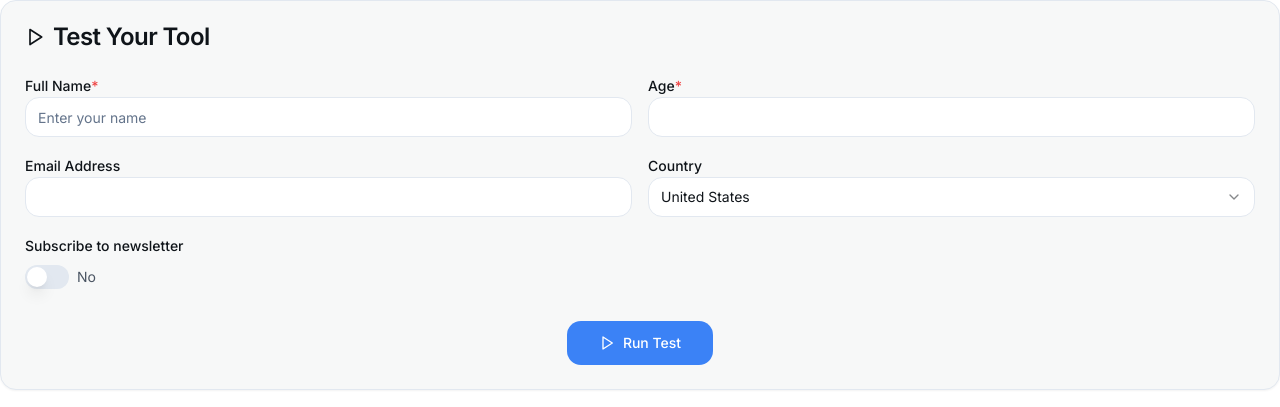
Test case: ToolTestRunner › Form Interaction › should handle select input changes
Find the select trigger button (it's the next element after the label)
What coordinates should you click on to do the following:
click the dropdown
I would click on:
 (705, 196)
Its box is x1=648 y1=177 x2=1255 y2=217.
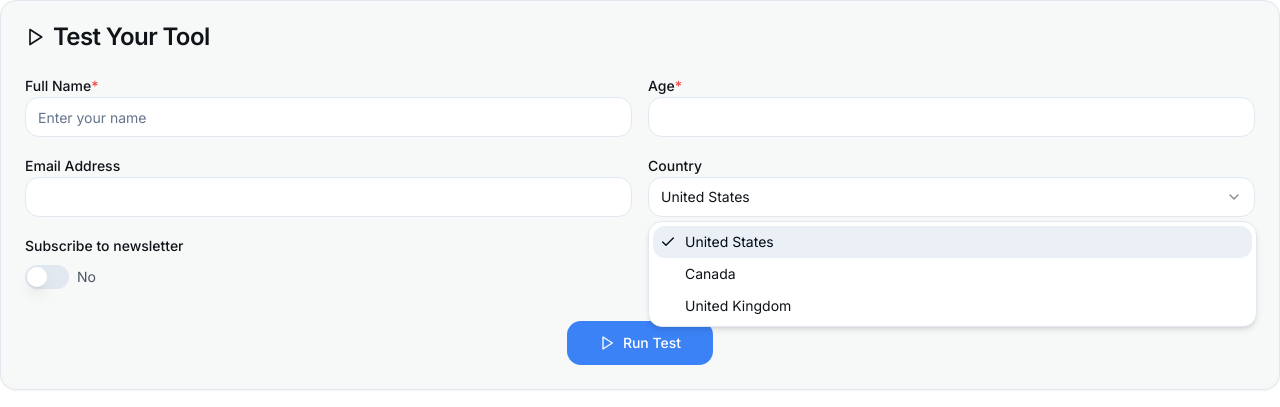
Select Canada
What coordinates should you click on to do the following:
click the option "Canada"
I would click on:
 (710, 274)
Its box is x1=685 y1=265 x2=736 y2=282.
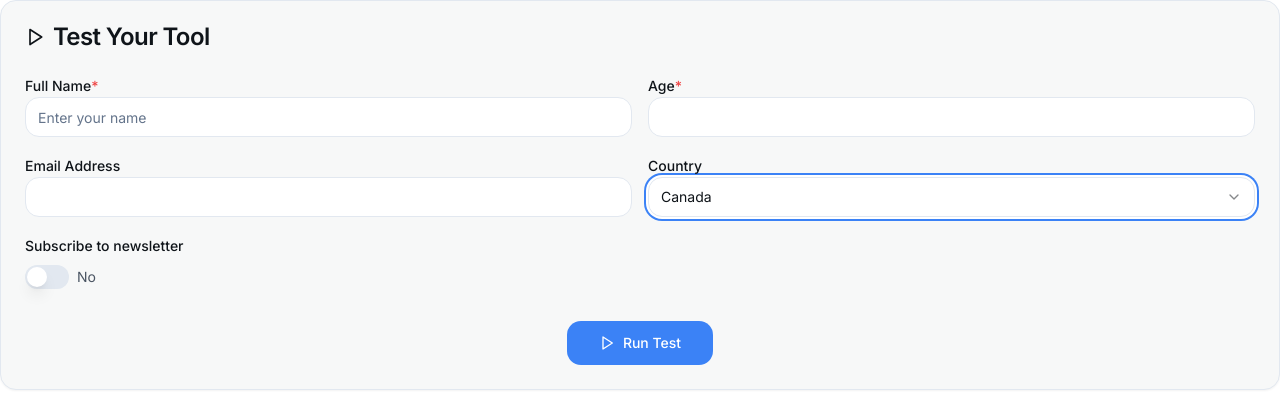
expect the dropdown reads "Canada": met, box x1=648 y1=177 x2=1255 y2=217
